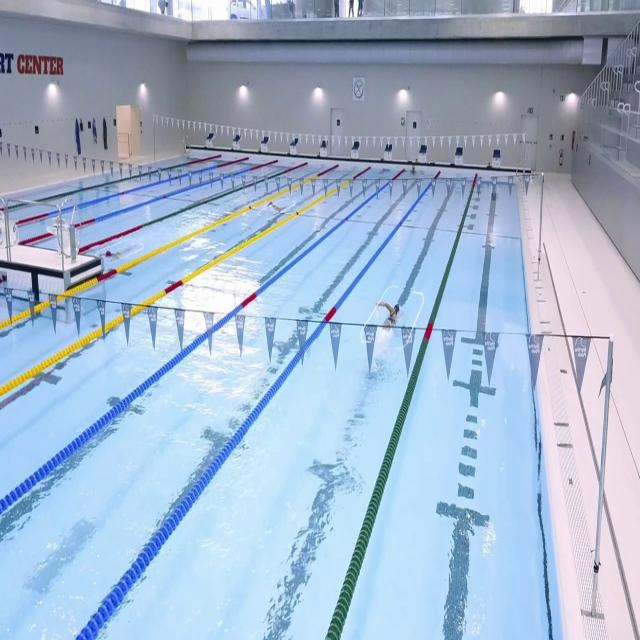Swimming: (377, 300, 403, 332), (100, 242, 139, 261), (268, 199, 289, 214)
